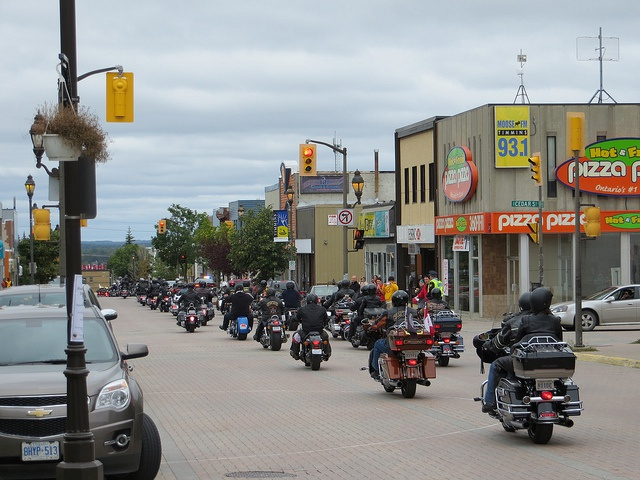non-vehicle: (472, 327, 584, 443), (377, 327, 437, 398), (422, 303, 464, 350), (351, 308, 387, 348), (298, 331, 328, 371), (177, 295, 206, 332), (257, 314, 286, 350), (328, 305, 351, 338), (226, 316, 251, 341), (200, 300, 214, 325), (159, 295, 171, 312), (215, 291, 224, 311)
